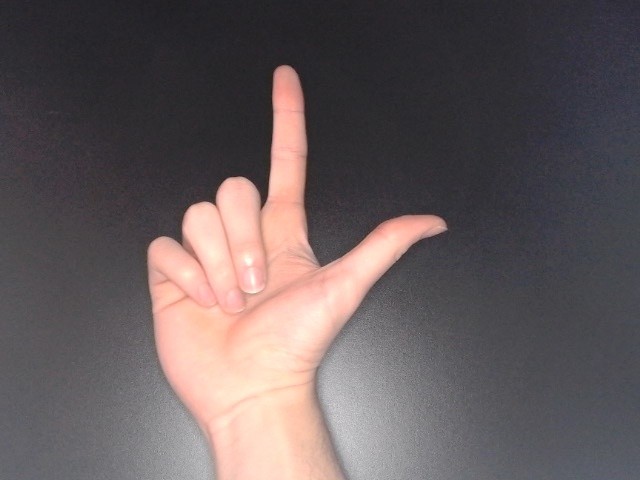l: (139, 61, 453, 422)
